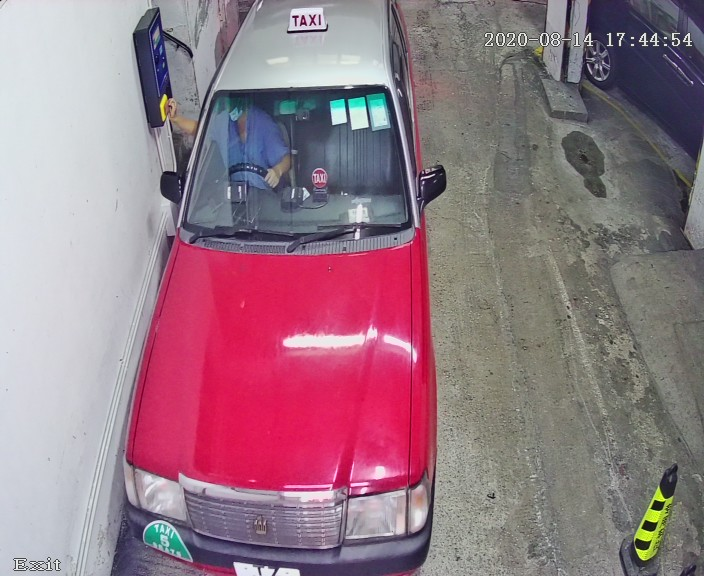taxi: (122, 3, 451, 576)
taxi_mark: (138, 512, 194, 568)
